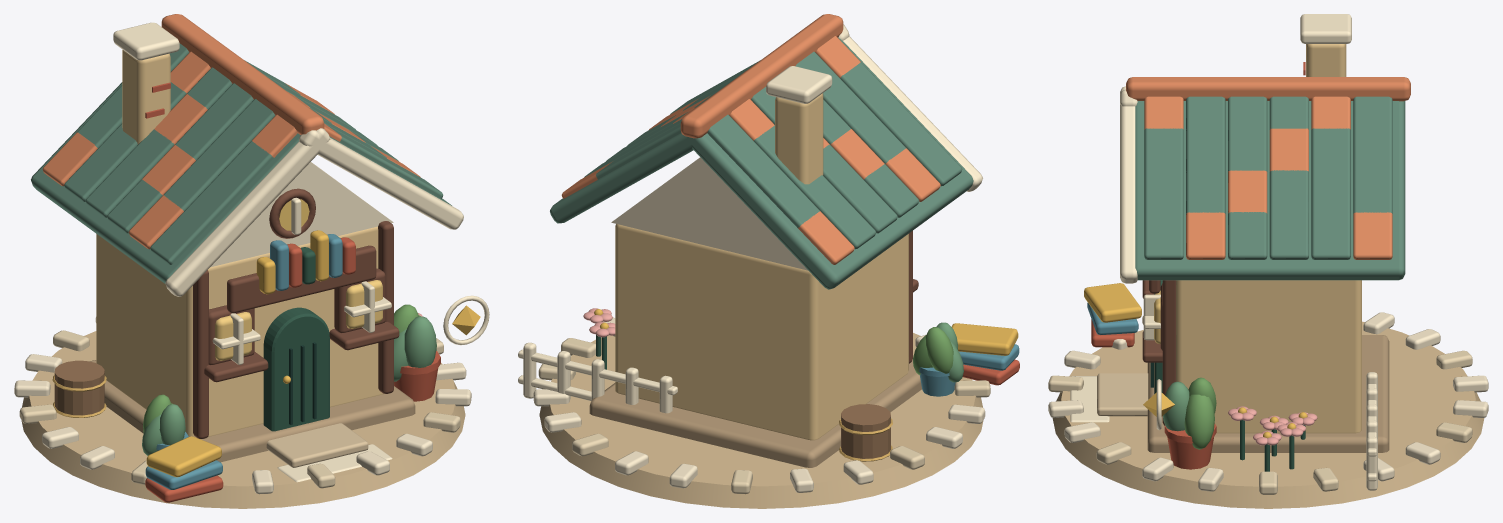
Rendered from library.glb.
3 renders of one model, left to right at view 1: azimuth 30°, elevation 25°; view 2: azimuth 150°, elevation 25°; view 3: azimuth 270°, elevation 25°, orthographic. The views are drawn at different scales.
Visible parts, largest first — view 1: building-library, landmark-library, Blender_detail_RainBarrel, treasure-library; view 2: building-library, landmark-library, Blender_detail_RainBarrel; view 3: building-library, landmark-library, treasure-library.
Part boxes in pixels (<box>): building-library: <box>31,14,463,502</box>; landmark-library: <box>14,317,471,508</box>; Blender_detail_RainBarrel: <box>54,360,104,415</box>; treasure-library: <box>443,295,489,345</box>; building-library: <box>518,14,1019,467</box>; landmark-library: <box>533,317,990,508</box>; Blender_detail_RainBarrel: <box>841,404,890,458</box>; building-library: <box>1070,14,1410,490</box>; landmark-library: <box>1048,312,1488,508</box>; treasure-library: <box>1143,379,1174,430</box>.
Bounding box in the file's own units: 1.54 × 1.39 × 1.53.
